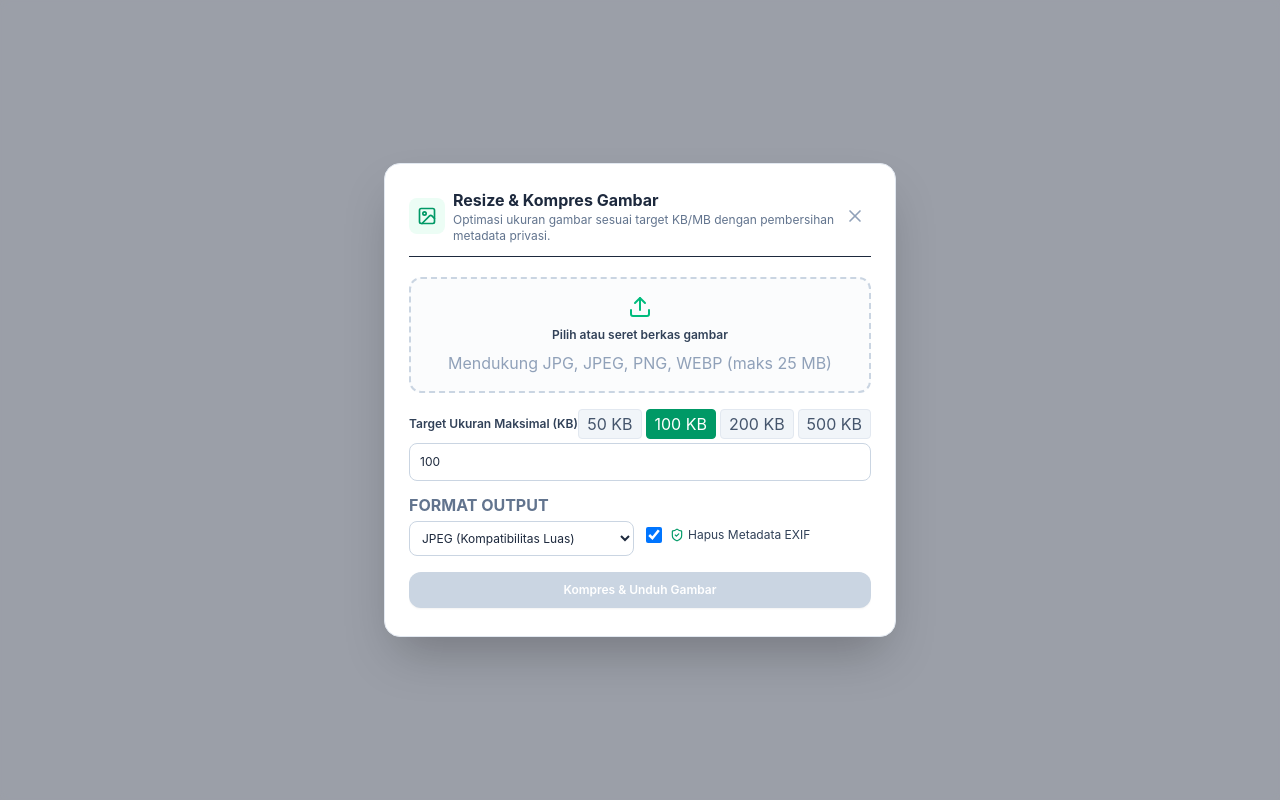
it: ImageResizeModal Component Suite › memperbarui target KB saat preset diklik
Click the button "50 KB" at (610, 424), box [578,409,642,439]
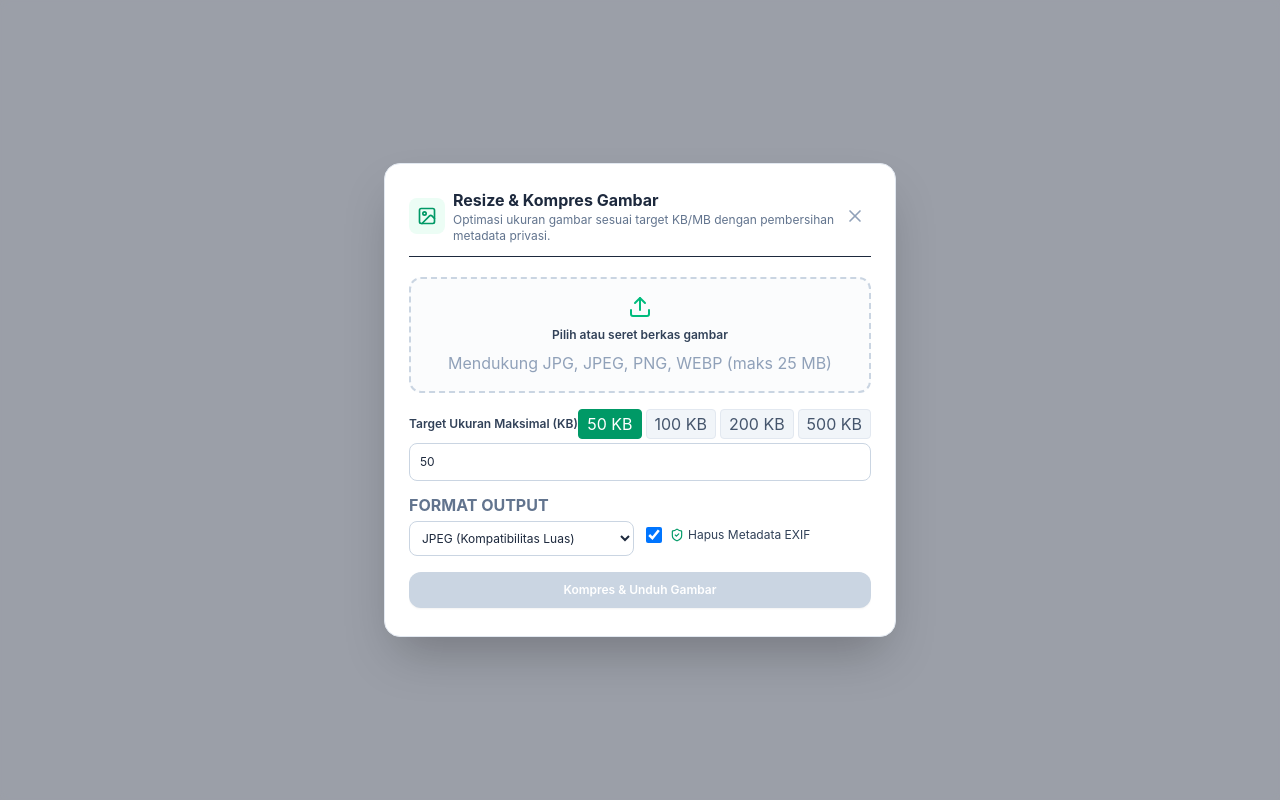
Check: the number field with test id "input-target-kb" holds "50", box [409,443,871,481]
